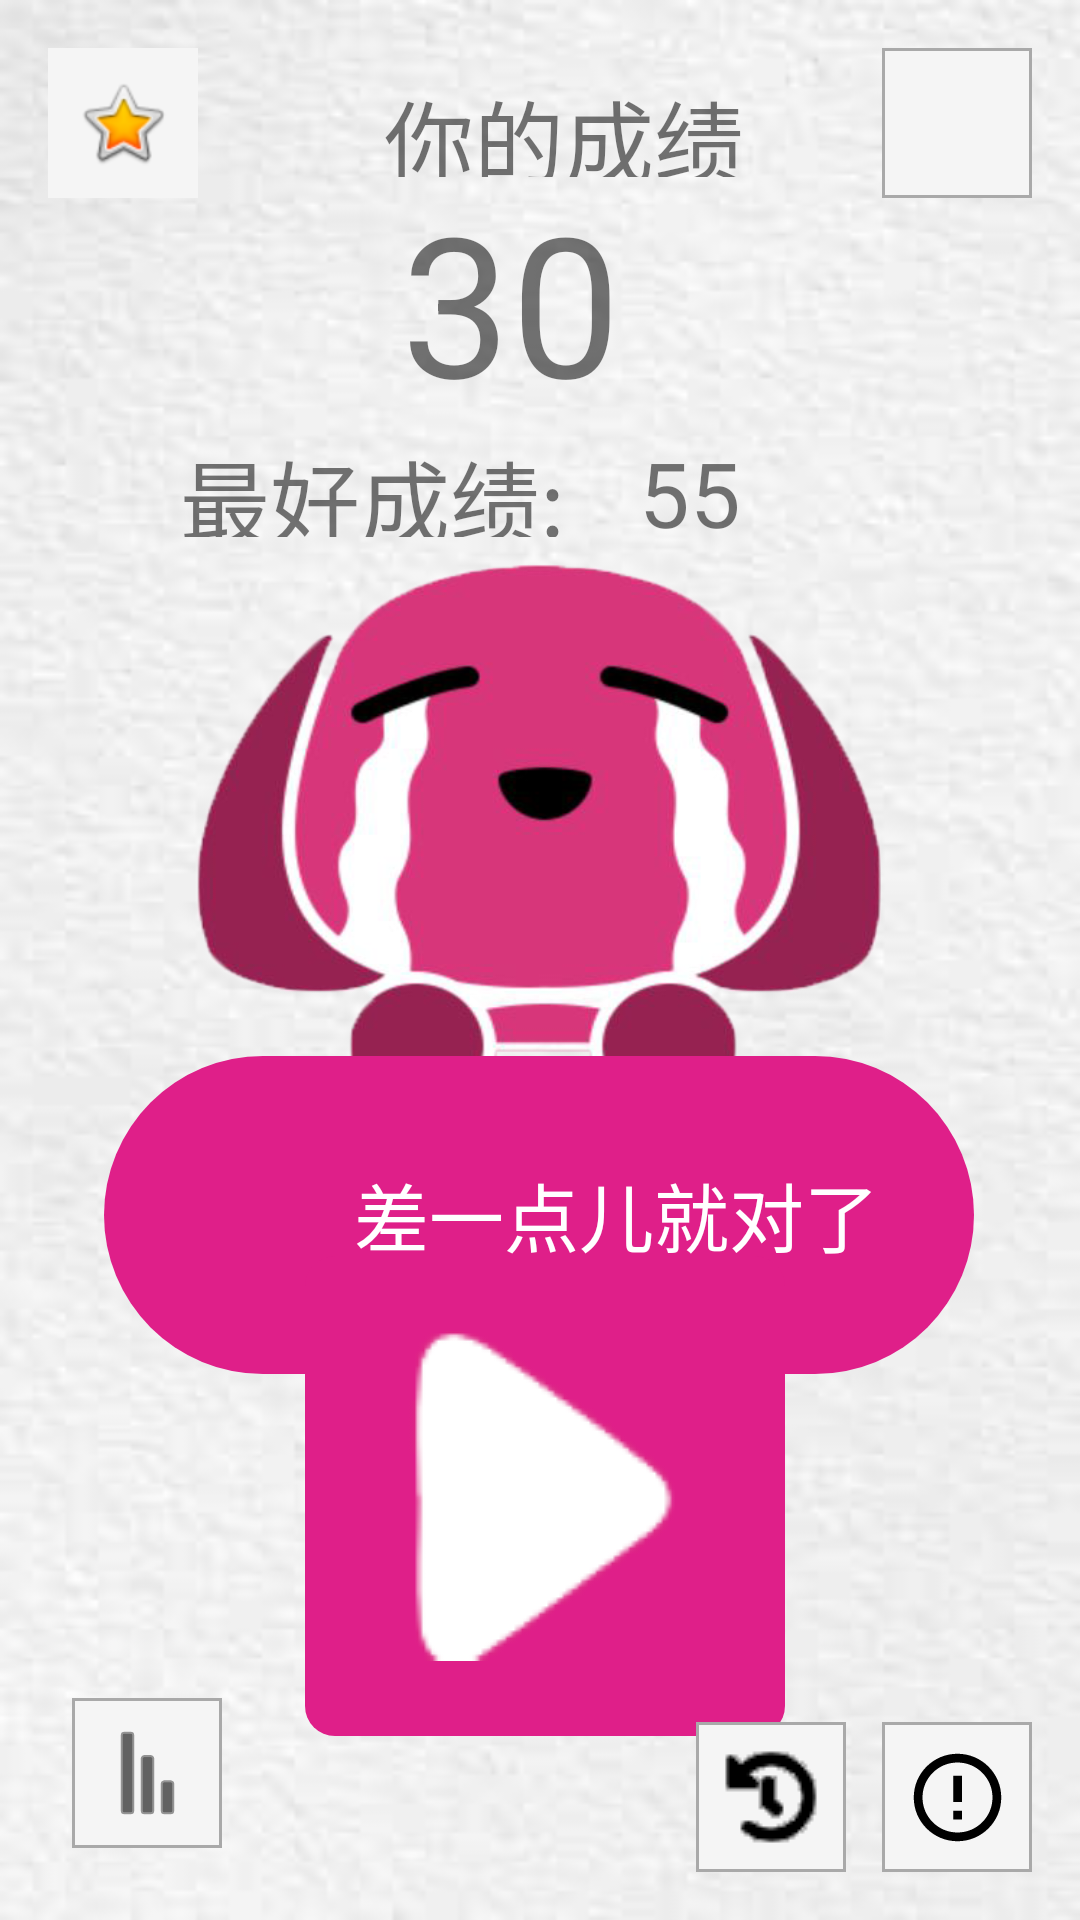

Screen size 1080*1920. Icon name, then its center in pixels as (x,y):
error: (957,1797)
history: (771,1797)
star on: (123,123)
start trigon: (543,1497)
